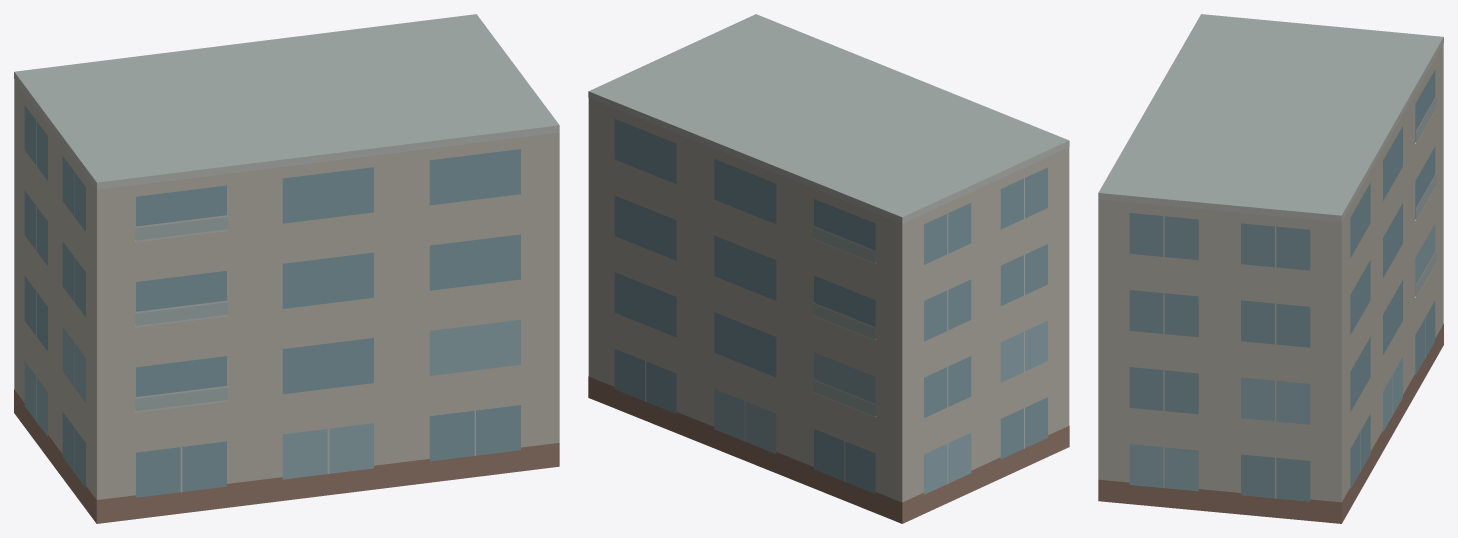
Rendered from survey-upis-32802895.glb.
3 views of the same model, side by side, from view 1: azimuth 30°, elevation 25°; view 2: azimuth 150°, elevation 25°; view 3: azimuth 270°, elevation 25° (orthographic). The views are drawn at different scales.
Parts seen in each view (by area): view 1: survey-upis-32802895.tmp; view 2: survey-upis-32802895.tmp; view 3: survey-upis-32802895.tmp.
Boxes of the visible parts, x1,y1,x2,y2 form: survey-upis-32802895.tmp: (14, 14, 559, 523); survey-upis-32802895.tmp: (588, 14, 1069, 523); survey-upis-32802895.tmp: (1098, 14, 1443, 523).
Bounding box in the file's own units: 16.11 × 11.47 × 11.66.
